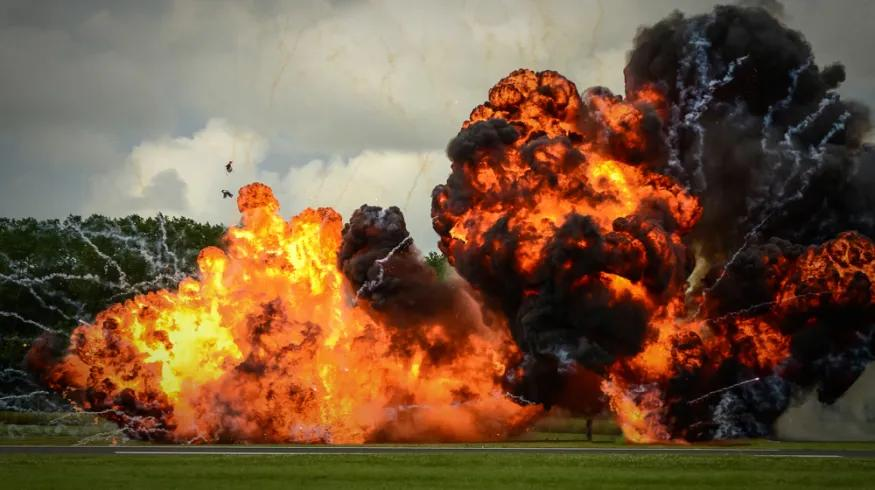fire: (441, 78, 874, 432), (77, 209, 428, 446)
